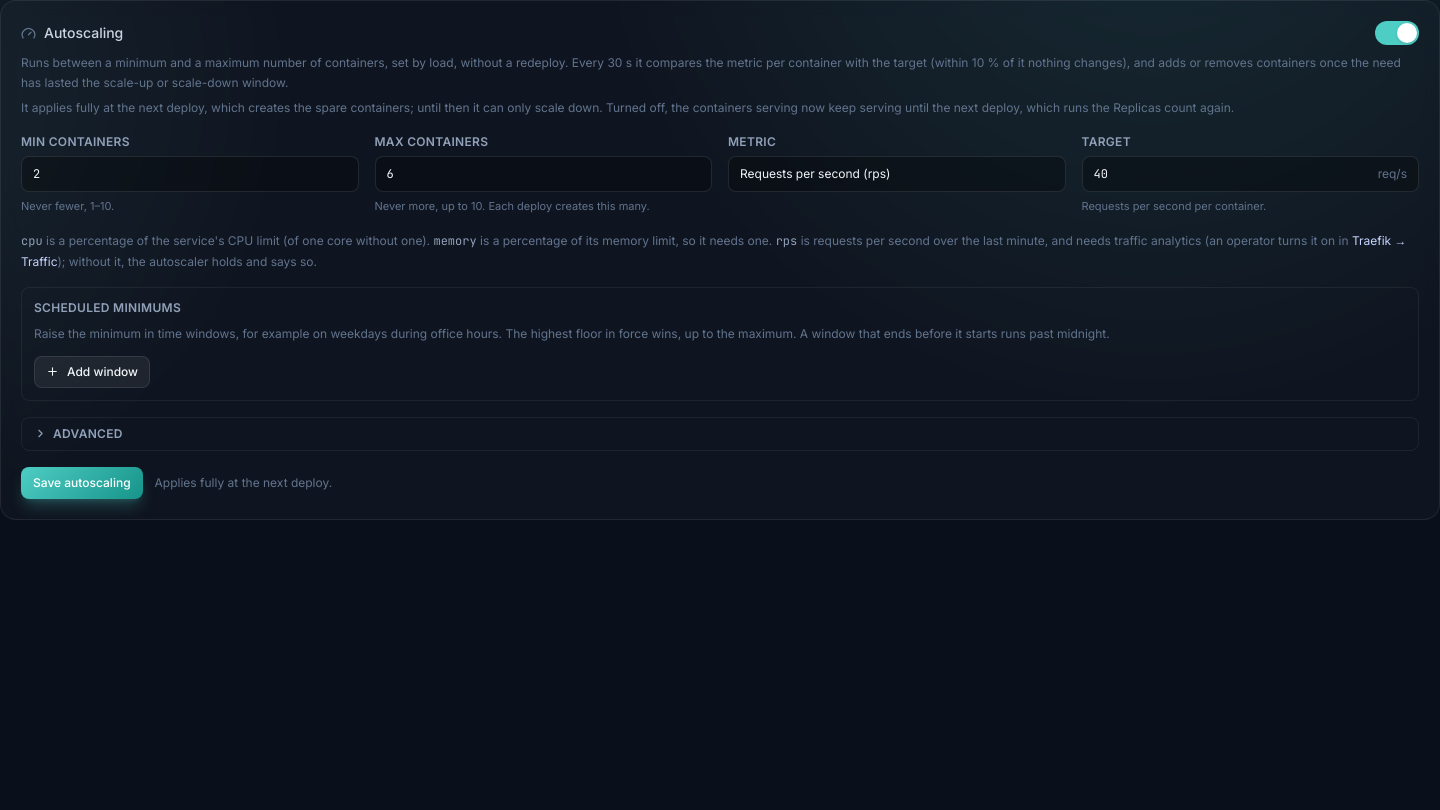
Test case: AutoscaleCard › shows the server's message when the save is refused, and a fallback without one
Click the button "Save autoscaling": (82, 483) x1=21 y1=467 x2=143 y2=499
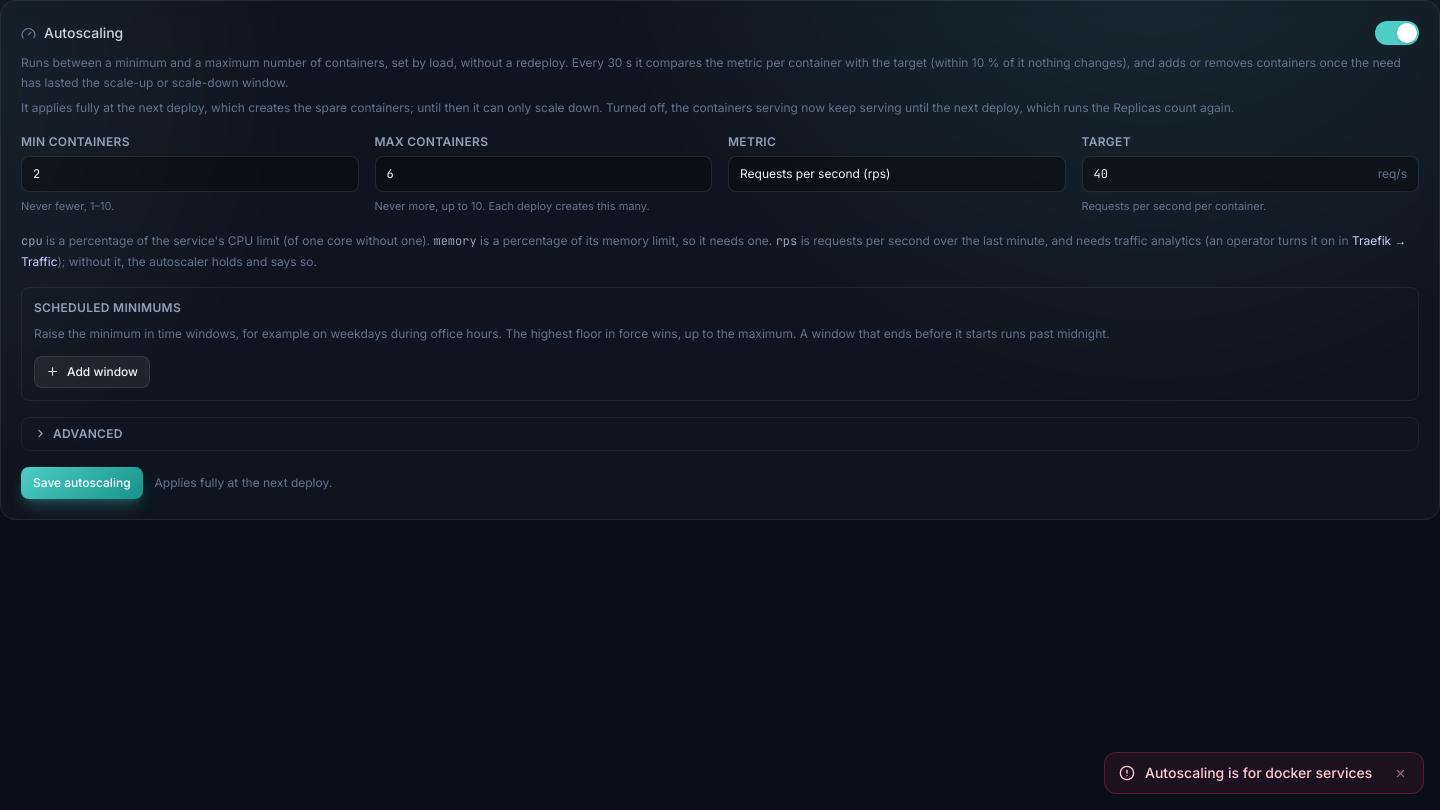
Now the text "Autoscaling is for docker services" is shown, box x1=1145 y1=763 x2=1382 y2=783
Click the button "Save autoscaling": (82, 483) x1=21 y1=467 x2=143 y2=499
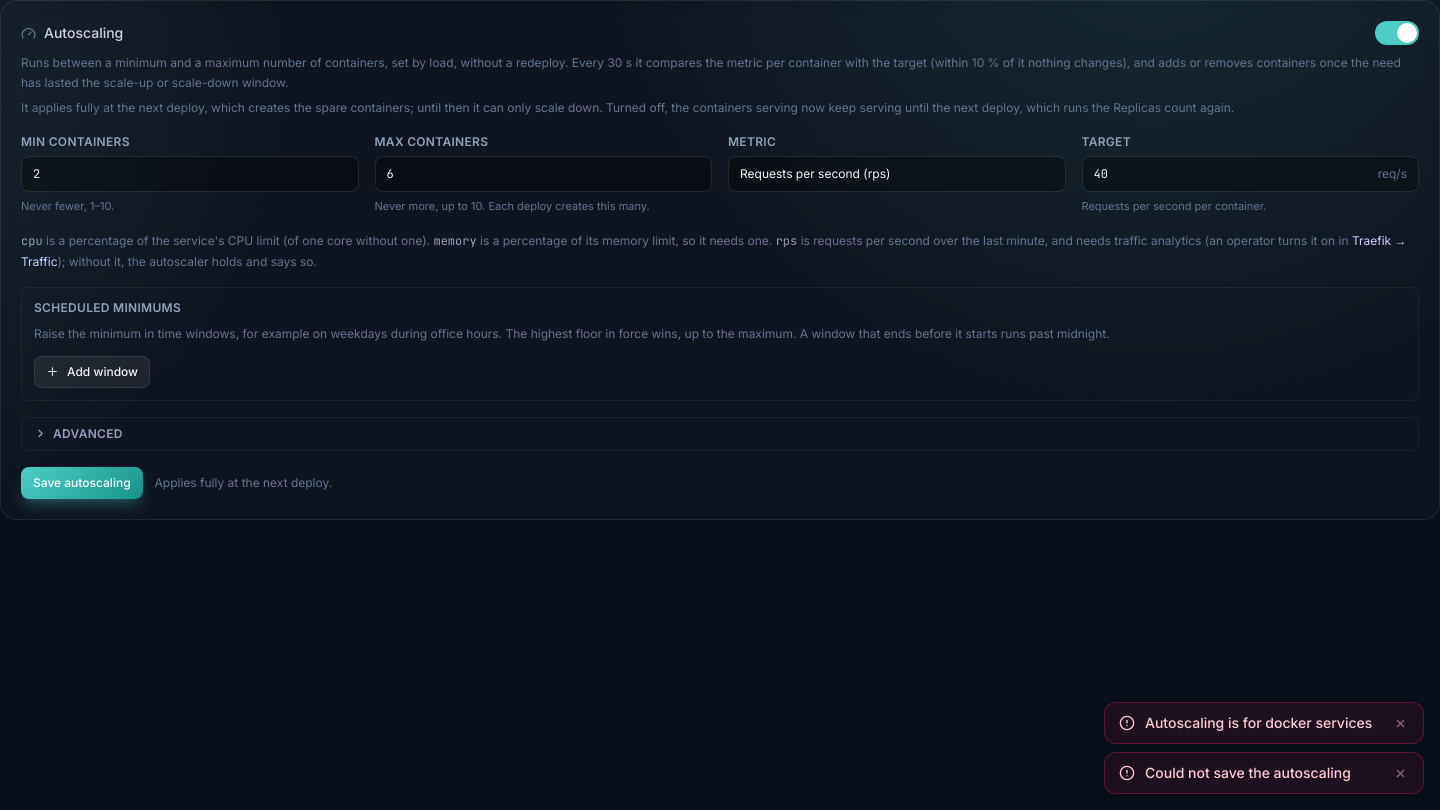
Now the text "Could not save the autoscaling" is shown, box x1=1145 y1=763 x2=1382 y2=783
